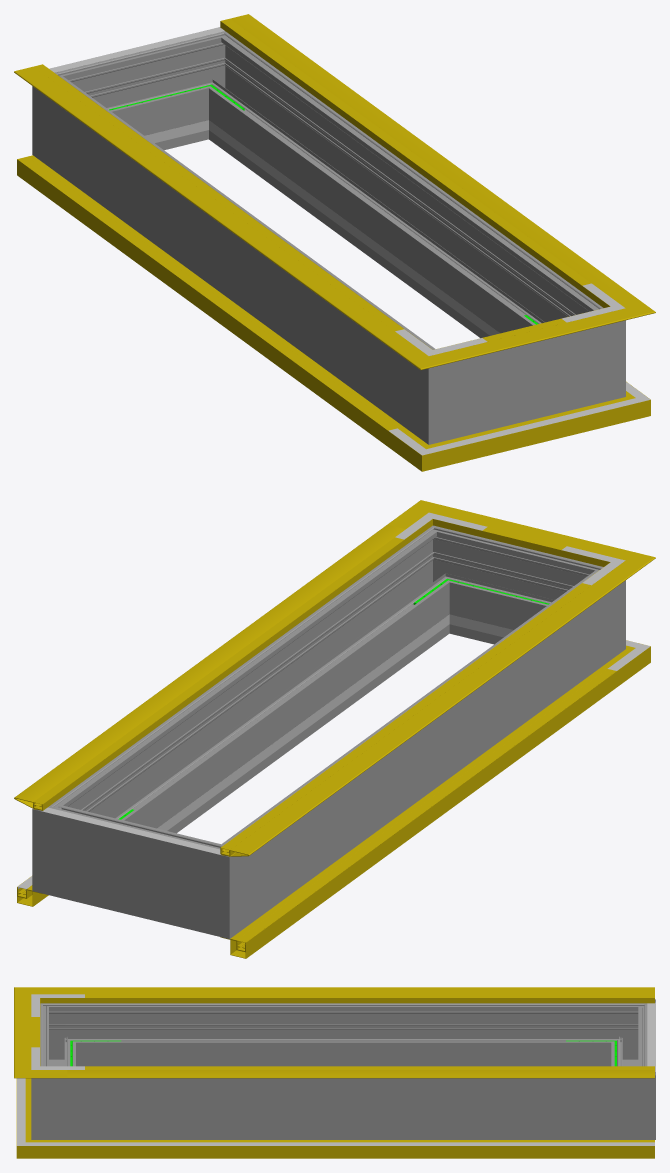
The picture shows the model from 3 angles, top to bottom: view 1: azimuth 30°, elevation 25°; view 2: azimuth 150°, elevation 25°; view 3: azimuth 270°, elevation 25°; orthographic projection. The views are drawn at different scales.
Parts seen in each view (by area): view 1: 3DGeom-297, 3DGeom-268, 3DGeom-145, 3DGeom-6, 3DGeom-147, 3DGeom-270, 3DGeom-276, 3DGeom-298, 3DGeom-290, 3DGeom-284, 3DGeom-25, 3DGeom-152 (+12 smaller); view 2: 3DGeom-297, 3DGeom-268, 3DGeom-145, 3DGeom-6, 3DGeom-147, 3DGeom-278, 3DGeom-276, 3DGeom-298, 3DGeom-284, 3DGeom-290, 3DGeom-25, 3DGeom-152 (+9 smaller); view 3: 3DGeom-268, 3DGeom-297, 3DGeom-16, 3DGeom-147, 3DGeom-145, 3DGeom-284, 3DGeom-290, 3DGeom-278, 3DGeom-18, 3DGeom-152, 3DGeom-154, 3DGeom-270 (+13 smaller).
Boxes of the visible parts, x1,y1,x2,y2 form: 3DGeom-297: (214, 52, 582, 338); 3DGeom-268: (66, 93, 413, 419); 3DGeom-145: (220, 14, 620, 299); 3DGeom-6: (17, 155, 403, 446); 3DGeom-147: (14, 66, 414, 344); 3DGeom-270: (395, 333, 487, 444); 3DGeom-276: (96, 43, 198, 150); 3DGeom-298: (487, 335, 567, 430); 3DGeom-290: (567, 292, 625, 410); 3DGeom-284: (176, 30, 253, 143); 3DGeom-25: (17, 157, 396, 430); 3DGeom-152: (221, 18, 591, 285); 3DGeom-297: (76, 546, 443, 833); 3DGeom-268: (244, 587, 591, 913); 3DGeom-145: (14, 524, 415, 810); 3DGeom-6: (220, 667, 617, 958); 3DGeom-147: (220, 575, 621, 856); 3DGeom-278: (170, 827, 263, 939); 3DGeom-276: (91, 815, 181, 924); 3DGeom-298: (459, 537, 561, 644); 3DGeom-284: (32, 786, 101, 905); 3DGeom-290: (404, 525, 481, 637); 3DGeom-25: (236, 669, 616, 943); 3DGeom-152: (33, 537, 403, 805); 3DGeom-268: (84, 1003, 602, 1066); 3DGeom-297: (84, 1078, 602, 1139); 3DGeom-16: (70, 1140, 654, 1158); 3DGeom-147: (67, 987, 654, 1003); 3DGeom-145: (67, 1070, 654, 1078); 3DGeom-284: (602, 1052, 655, 1139); 3DGeom-290: (31, 1052, 84, 1139); 3DGeom-278: (602, 999, 655, 1066); 3DGeom-18: (70, 1142, 654, 1145); 3DGeom-152: (85, 1066, 654, 1069); 3DGeom-154: (85, 994, 654, 997); 3DGeom-270: (40, 1003, 84, 1066).
Bounding box in the file's own units: 0.6096 × 0.2596 × 1.83.
